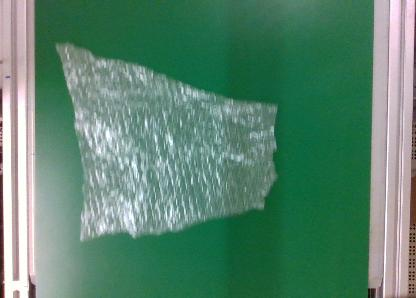Others: (52, 41, 278, 243), (54, 40, 278, 242)
